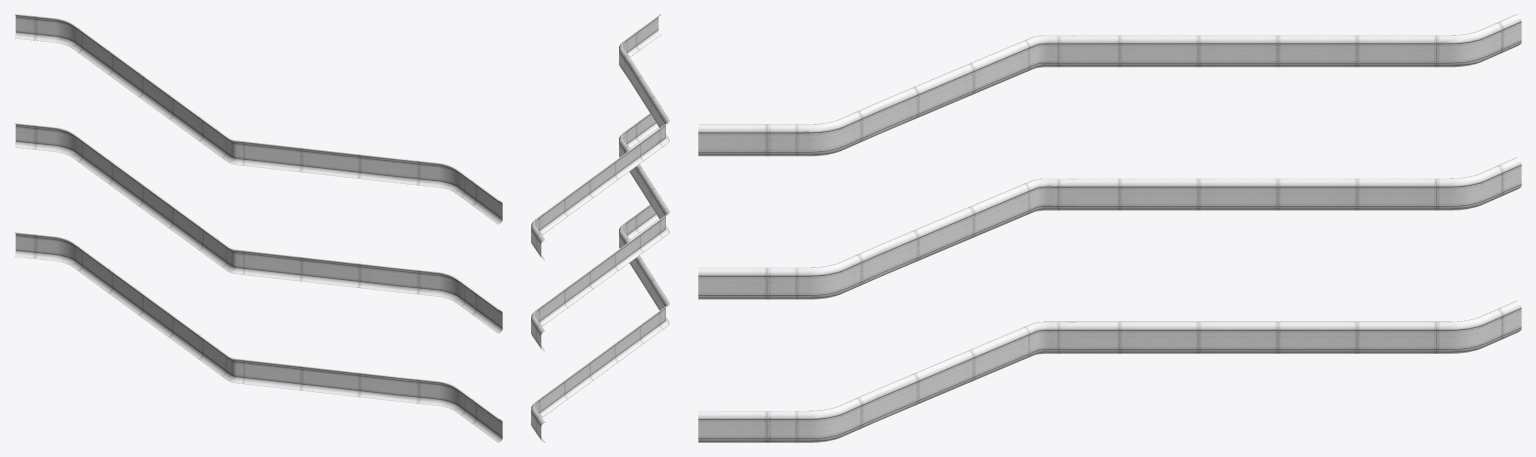
Rendered from RearFAC_Sup00.FBX.
3 renders of one model, left to right at view 1: azimuth 30°, elevation 25°; view 2: azimuth 150°, elevation 25°; view 3: azimuth 270°, elevation 25°, orthographic. The views are drawn at different scales.
Parts seen in each view (by area): view 1: RearFAC_Sup00; view 2: RearFAC_Sup00; view 3: RearFAC_Sup00.
Part boxes in pixels (x1,y1,x2,y2): RearFAC_Sup00: [14, 14, 502, 442]; RearFAC_Sup00: [531, 14, 669, 442]; RearFAC_Sup00: [698, 14, 1521, 442].
Bounding box in the file's own units: 10.15 × 13.3 × 31.24.
